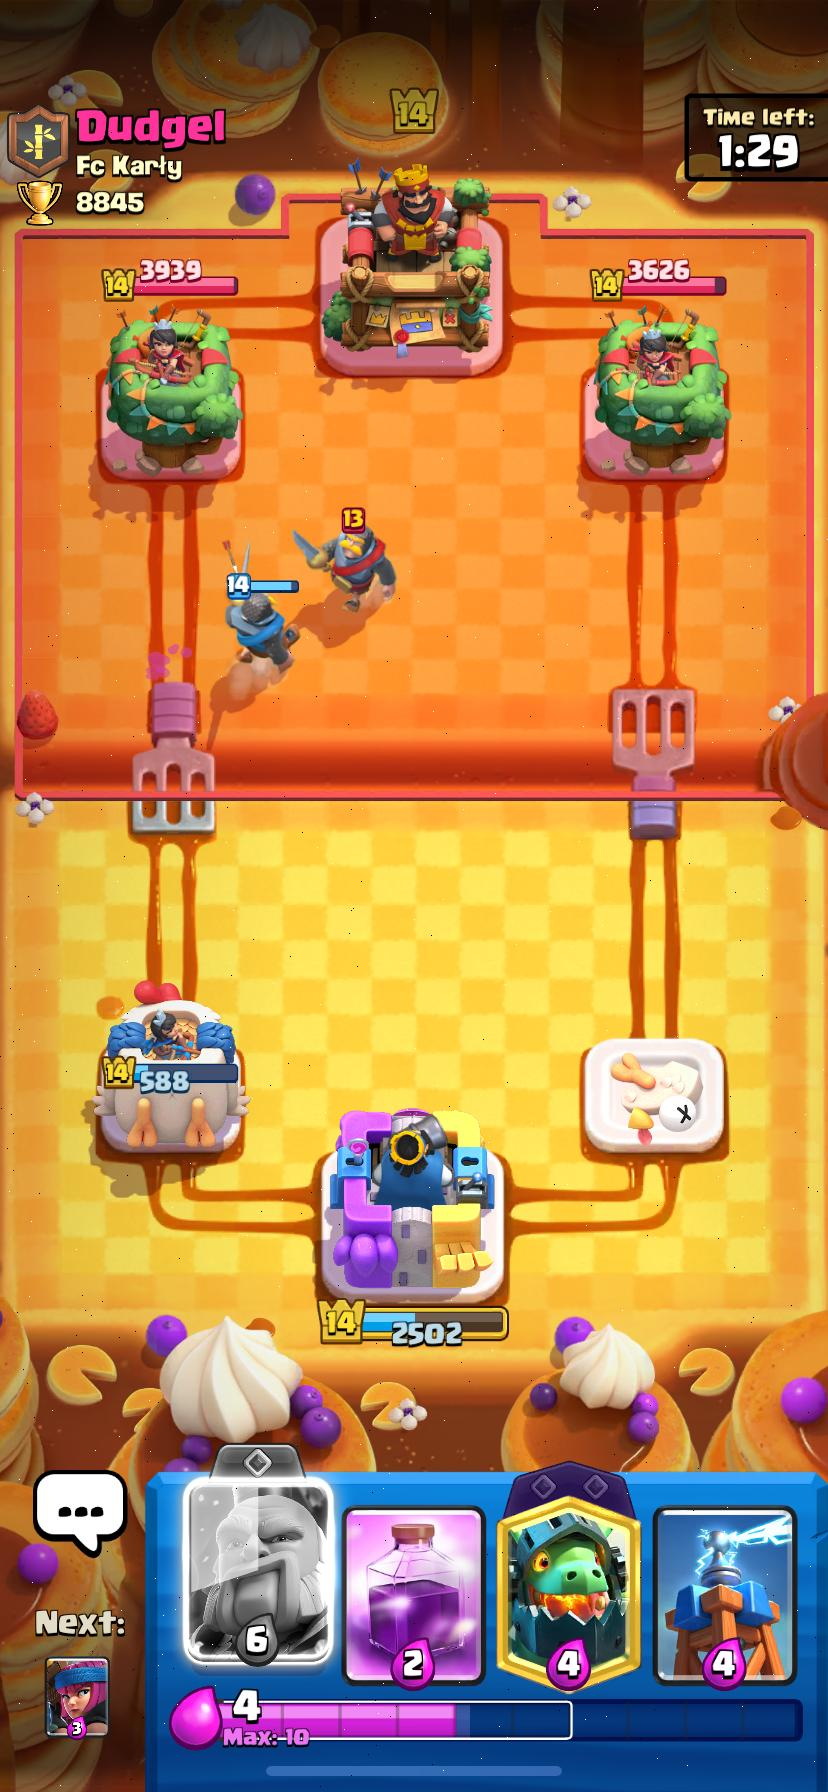EKingTower: (321, 165, 493, 369)
EKnight: (293, 523, 395, 613)
EnemyPrincessTower: (105, 307, 242, 477), (594, 309, 730, 475)
OKnight: (225, 589, 298, 675)
OwnKingTower: (323, 1109, 502, 1299)
OwnPrincessTower: (93, 983, 248, 1152)
TowerDown: (583, 1037, 725, 1155)
